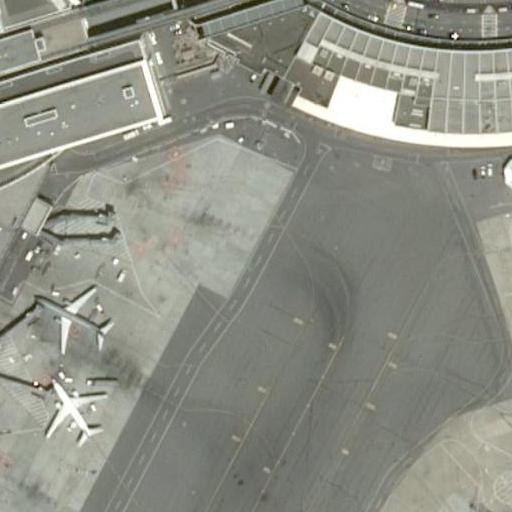Aircraft: (32, 371, 109, 448), (35, 282, 113, 351)
